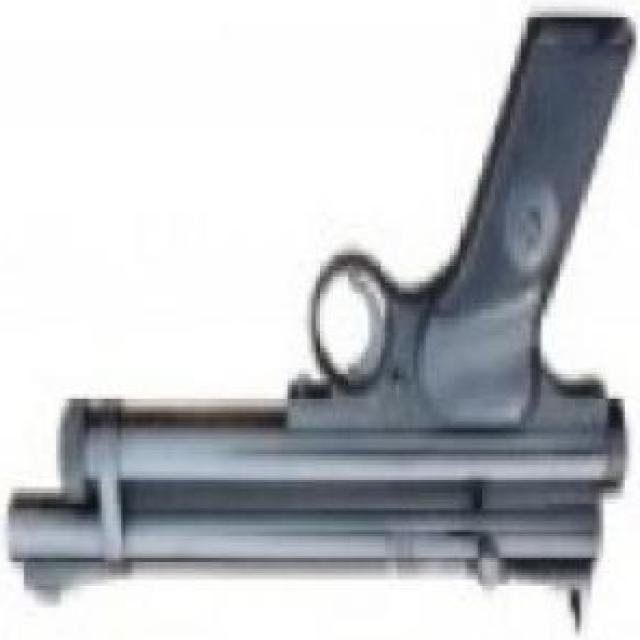pistol: (2, 16, 636, 627)
